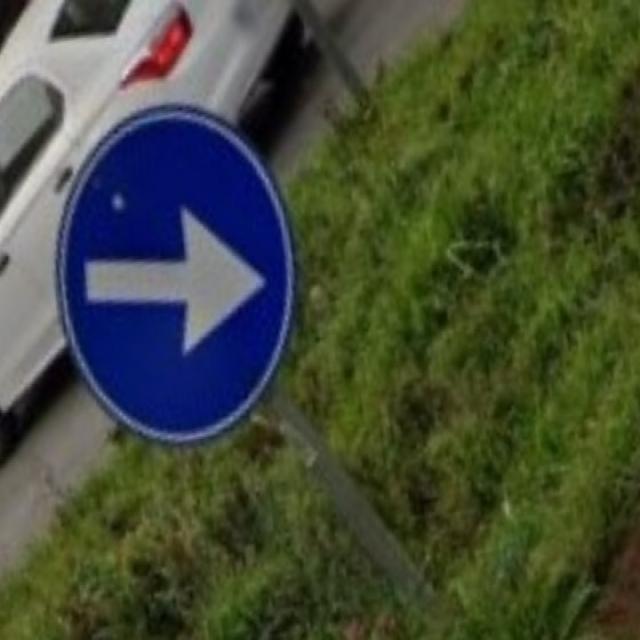Turn Right: (53, 108, 293, 447)
